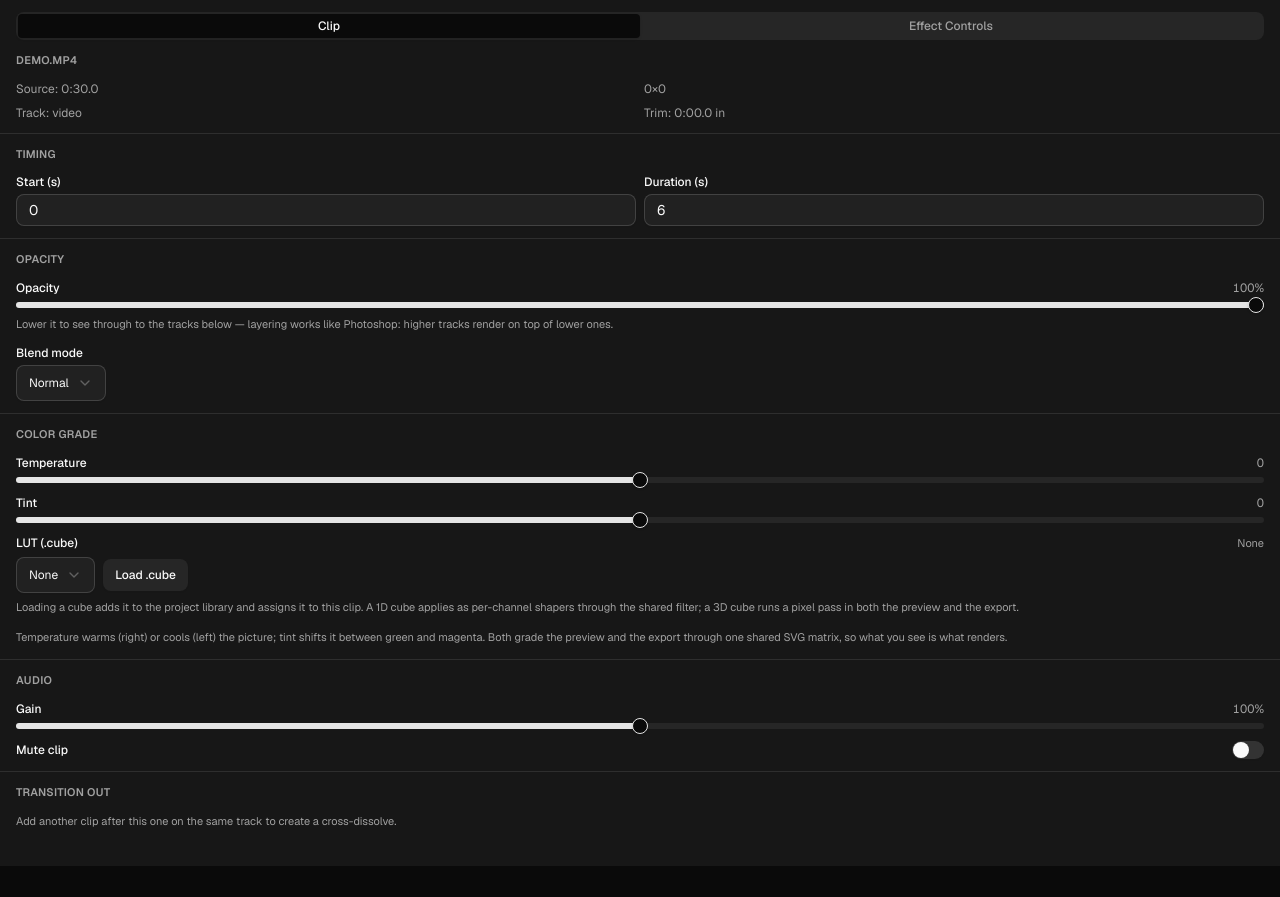
InspectorPanel tabs › the keyframe diamond writes a first keyframe at clip-local playhead time
Click the tab with test id "inspector-tab-effects".
click(951, 26)  # box [640,14,1262,38]
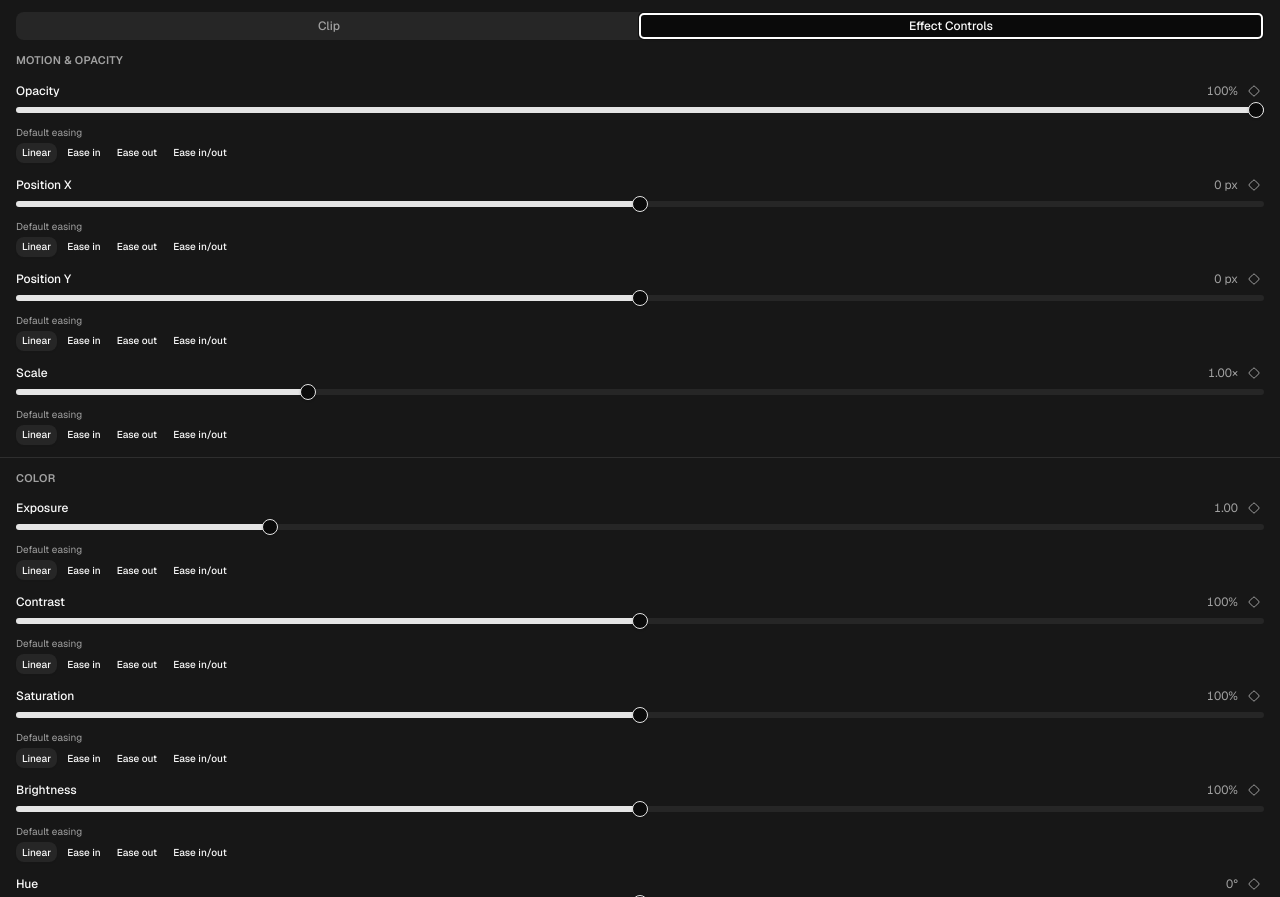
Click the button with test id "kf-toggle-opacity".
click(1254, 90)  # box [1244,80,1264,100]
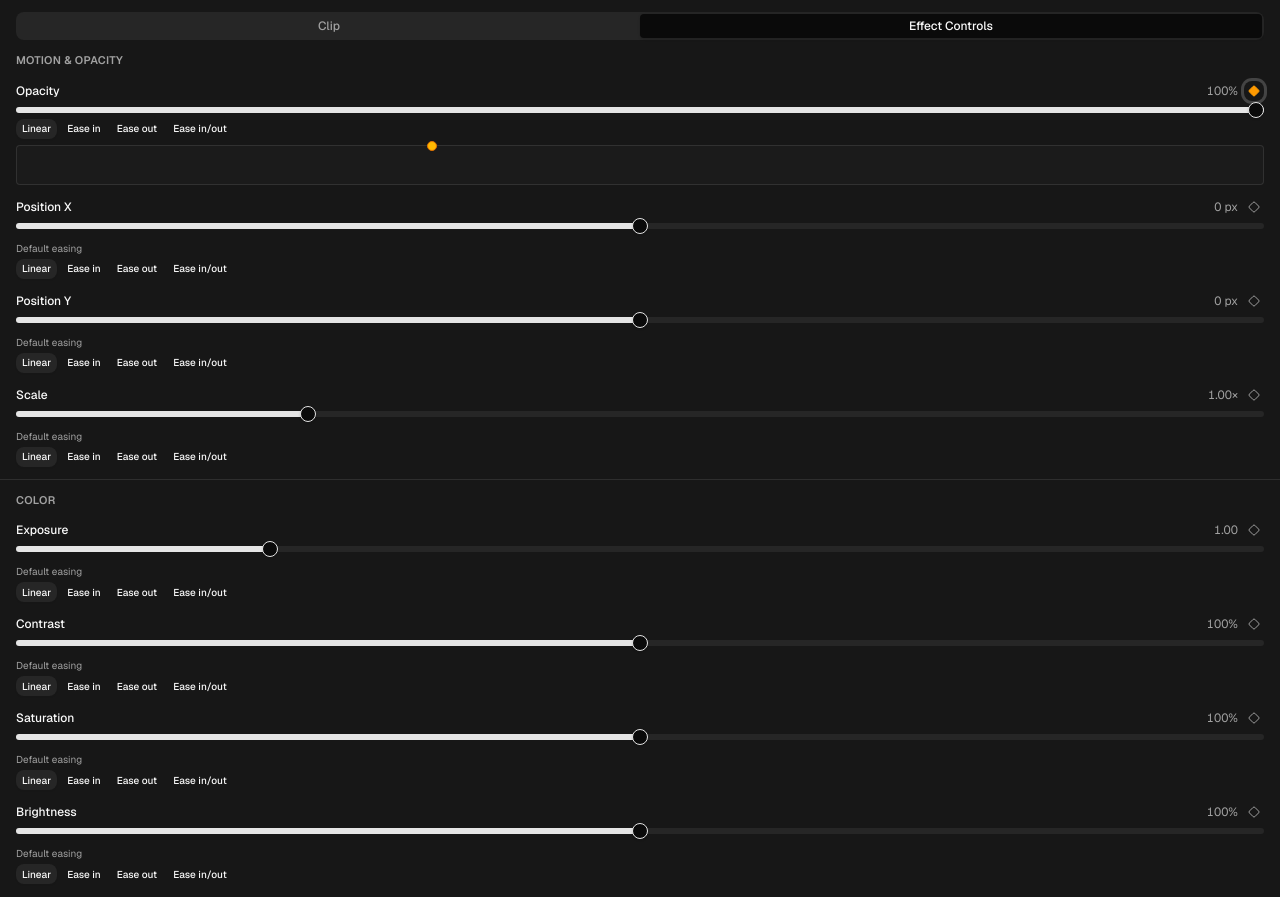
Expected: the element with test id "kf-graph-opacity" is shown, [16,144,1264,184]
